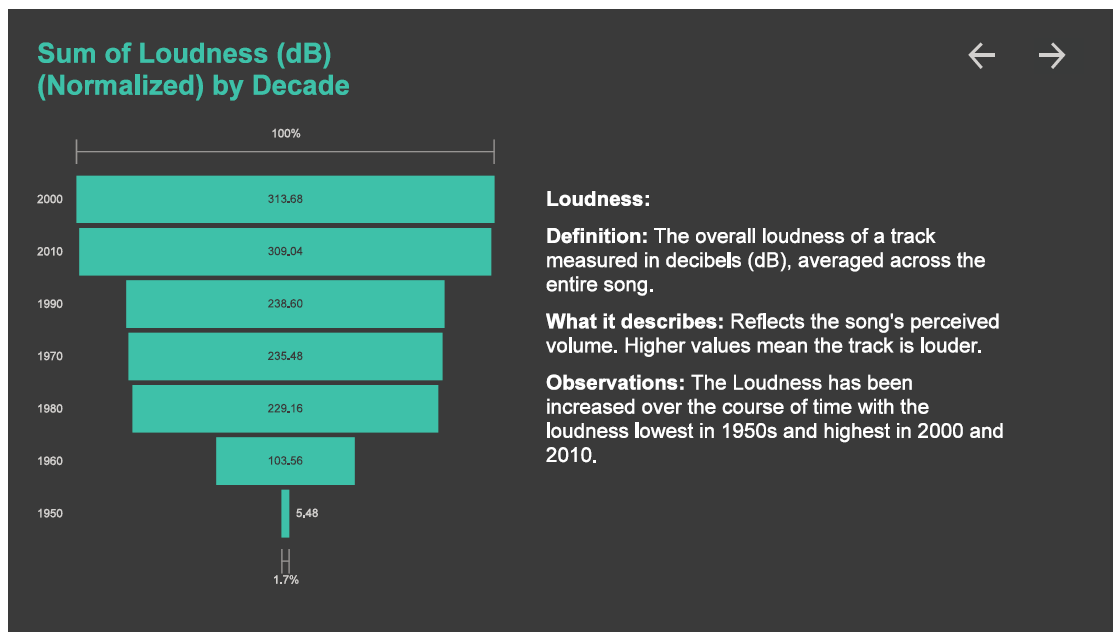

This screenshot's page, from the dashboard's own definition file:
{"tool":"powerbi","page":{"name":"Loudness(Bottom 15)","canvas":[1280,720],"ordinal":5},"visuals":[{"type":"funnel","fields":{"Category":["Spotify-2000-Prepared.Decade"],"Y":["Sum(Spotify-2000-Prepared.Loudness (dB) (Normalized))"]},"box":[28.3,31.7,545,668.3],"z":0},{"type":"actionButton","box":[1189.4,32.8,56.7,40],"z":1000},{"type":"actionButton","box":[1109.4,32.8,55,40],"z":2000},{"type":"textbox","box":[617.8,200,546.7,457.8],"z":3000}]}

Visuals, with their boxes in screenshot pixels (x1, y1, x2, y2), scaled from the page's 1280x720 canvas onto the 1117x639 screenshot:
funnel - Spotify-2000-Prepared.Decade x Sum(Spotify-2000-Prepared.Loudness (dB) (Normalized)): Rect(25, 28, 500, 621)
actionButton: Rect(1038, 29, 1087, 65)
actionButton: Rect(968, 29, 1016, 65)
textbox: Rect(539, 178, 1016, 584)
